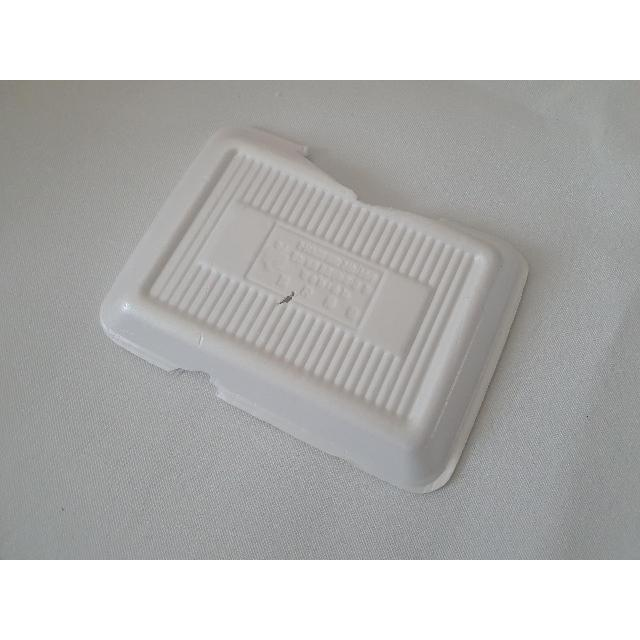Plastico descartable: (99, 129, 528, 496)
